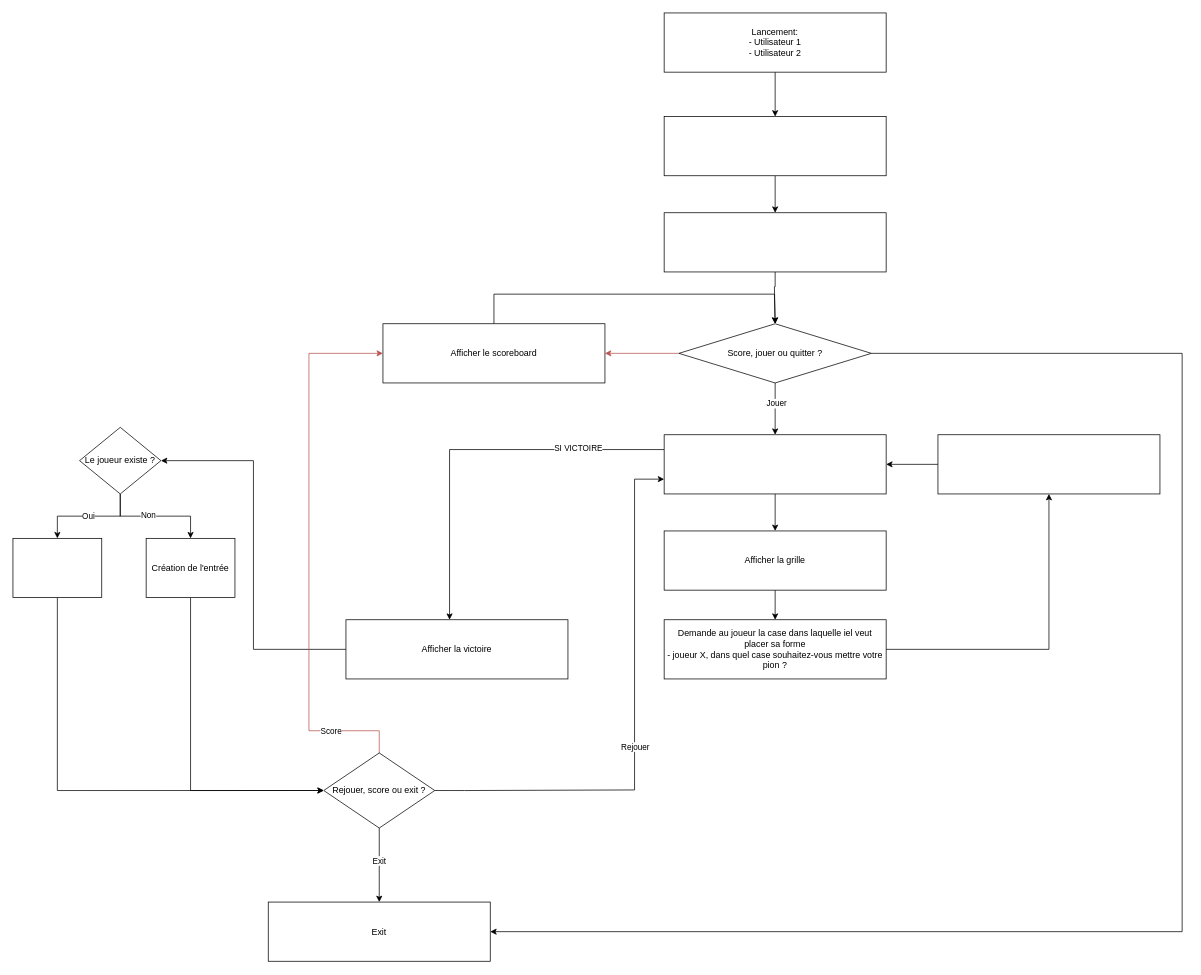
Some shapes in this 1201 by 975 pixel diagram are drawn without their labels. The shapes that lost their labels are listed below. From the top down, each one's centre as x and y in pixels, then its label:
point (774, 146): Log [INFO] "Lancement de la partie"
point (774, 242): Afficher les règles
point (774, 464): Tant que !victoire
point (1048, 464): Contrôle quant à la victoire
point (57, 568): Incrémentation du score
